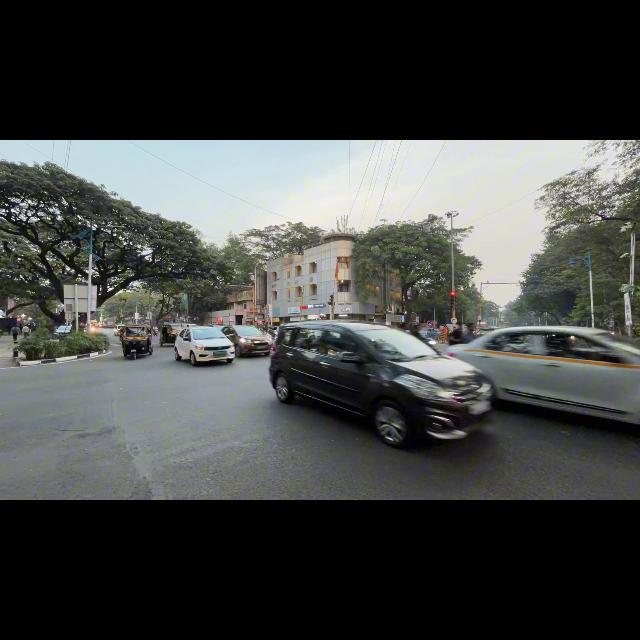car: (270, 321, 492, 447), (447, 326, 639, 423), (174, 326, 234, 365), (222, 325, 273, 356), (159, 323, 196, 346), (54, 325, 71, 339), (476, 328, 494, 337), (114, 324, 124, 336)
